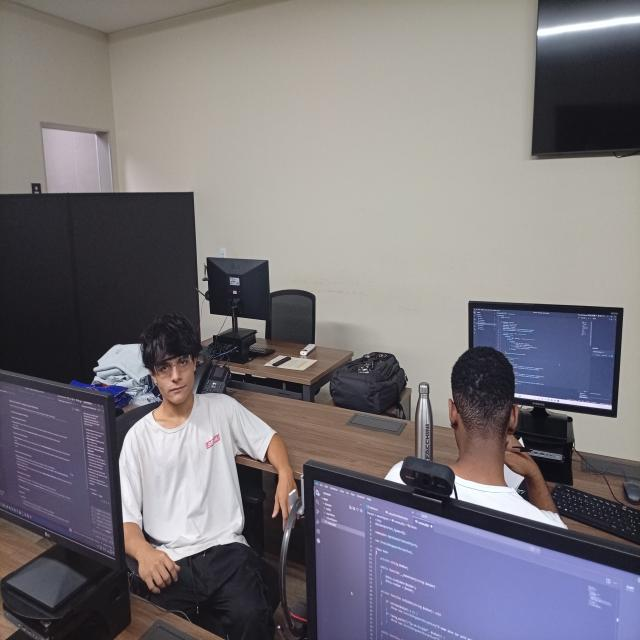oculos-epi: (153, 354, 192, 377)
